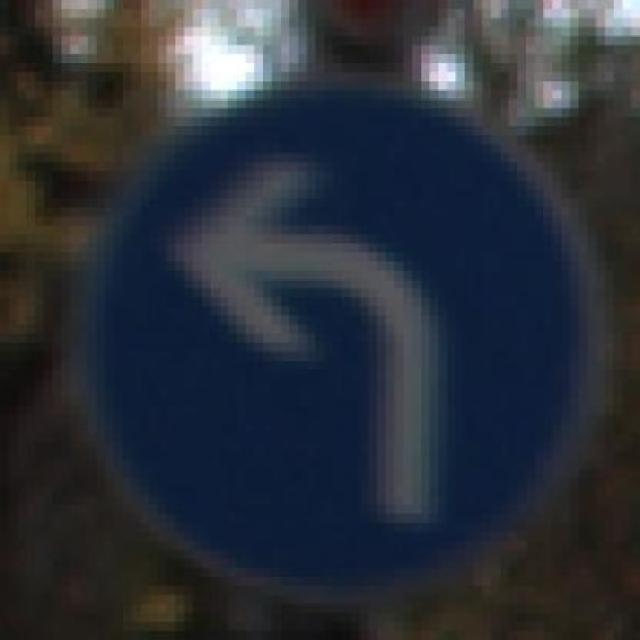Turn left ahead: (69, 63, 614, 605)
